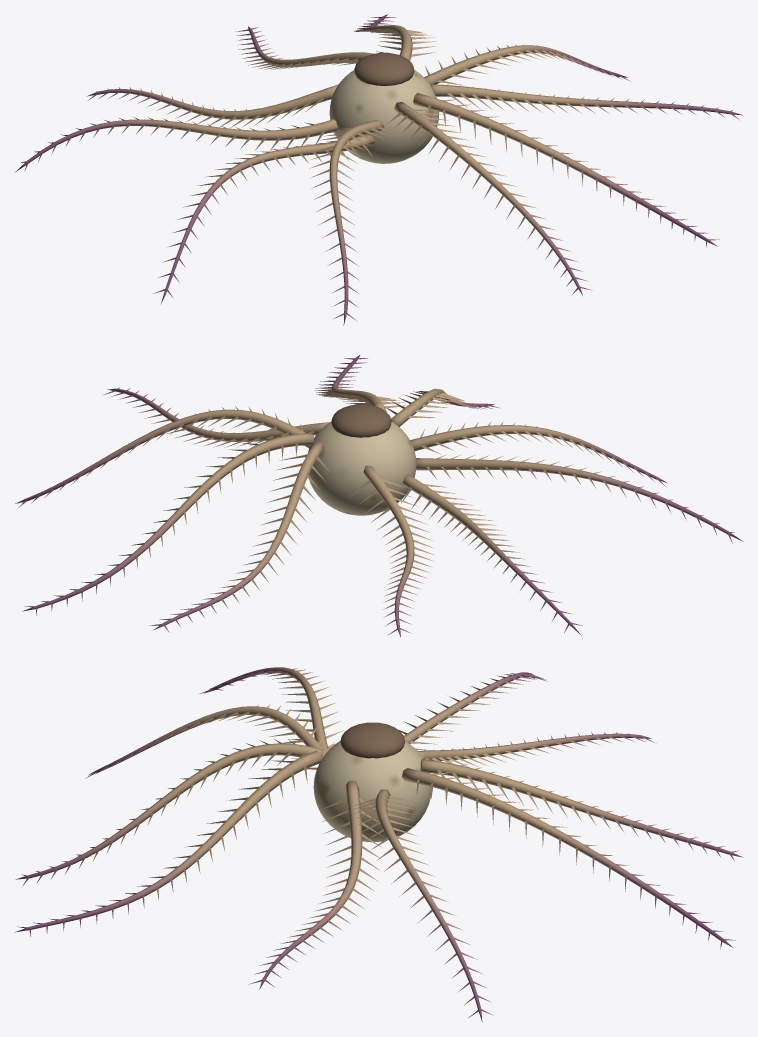
The model's file is Uintacrinus.fbx.
The picture shows the model from 3 angles, top to bottom: view 1: azimuth 30°, elevation 25°; view 2: azimuth 150°, elevation 25°; view 3: azimuth 270°, elevation 25°; orthographic projection. The views are drawn at different scales.
Parts seen in each view (by area): view 1: Uintacrinus; view 2: Uintacrinus; view 3: Uintacrinus.
Part boxes in pixels (bbox=[...]): Uintacrinus: bbox=[14, 14, 742, 325]; Uintacrinus: bbox=[15, 355, 743, 637]; Uintacrinus: bbox=[15, 667, 742, 1021].
Size of the model in its own units: 2.05 by 0.416 by 1.97.
